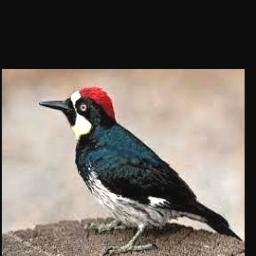Woodpecker: (38, 86, 242, 253)
